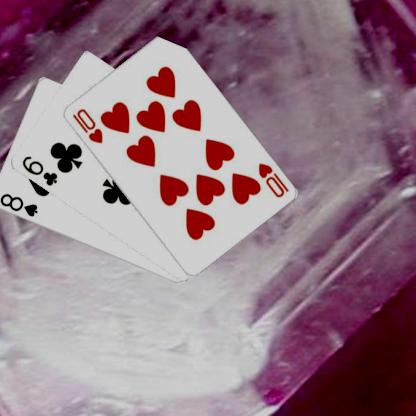10H: (254, 160, 290, 200), (69, 105, 104, 145)
6C: (19, 153, 58, 188)
8S: (0, 190, 39, 218)
